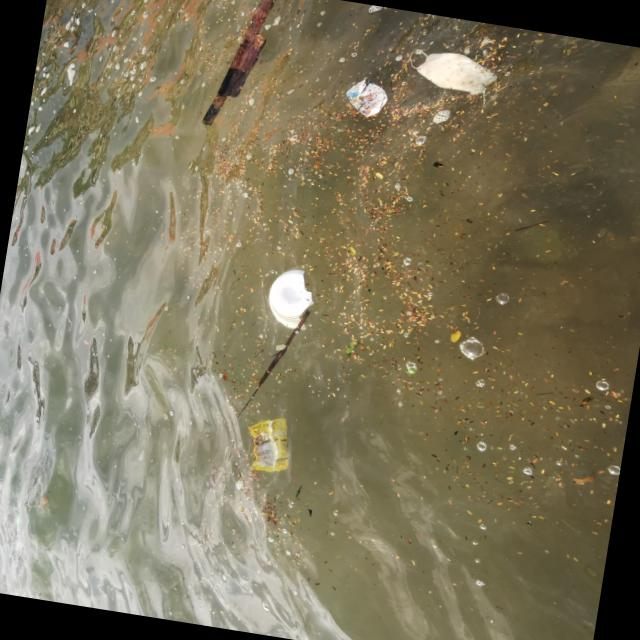foam: (266, 260, 316, 334)
plastic bottle: (237, 411, 302, 476)
unknow: (403, 42, 498, 98), (340, 74, 390, 120)
